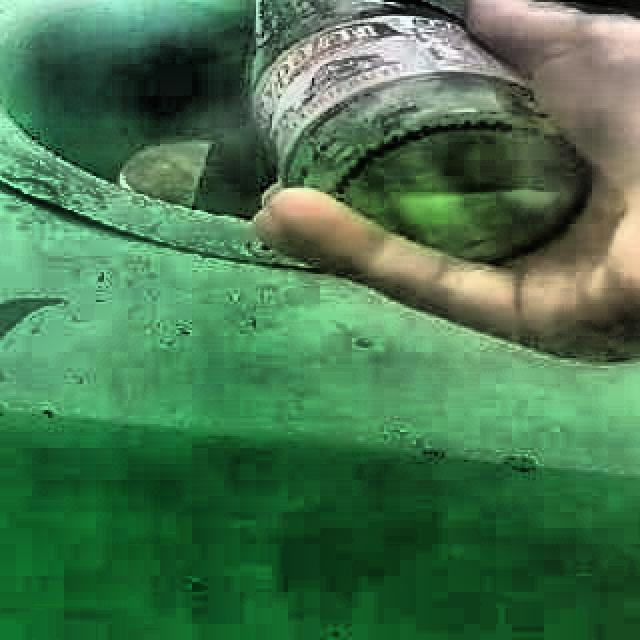glass: (249, 0, 588, 263)
